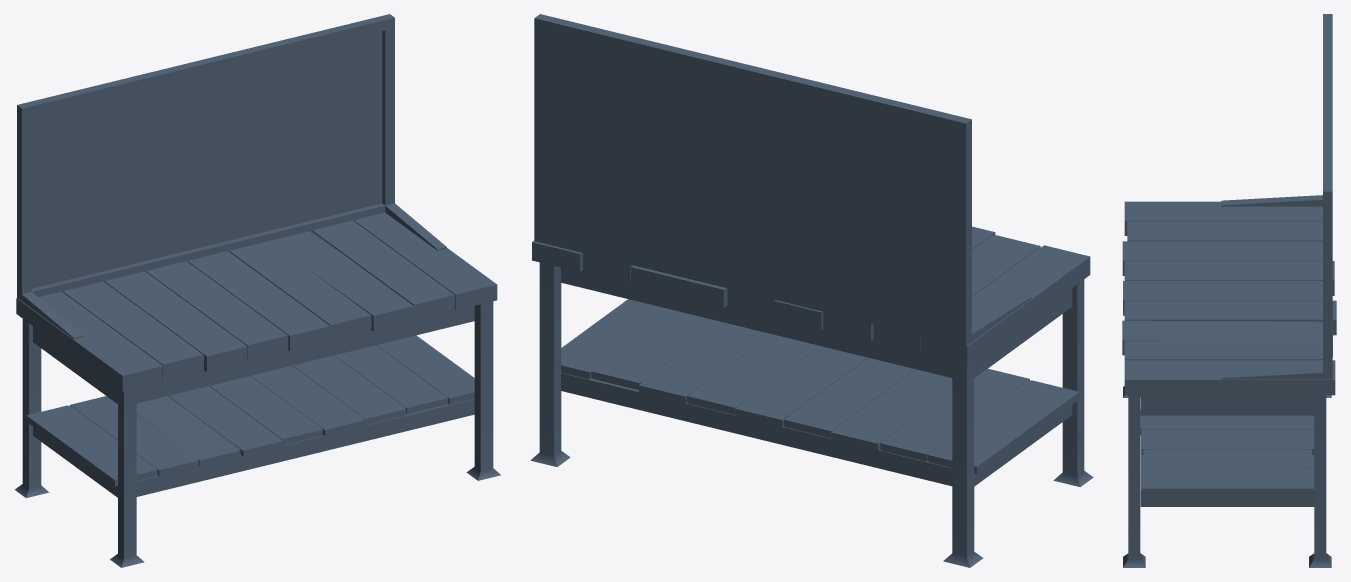
The model's file is Work Station Low.fbx.
The picture shows the model from 3 angles, left to right: view 1: azimuth 30°, elevation 25°; view 2: azimuth 150°, elevation 25°; view 3: azimuth 270°, elevation 25°; orthographic projection. The views are drawn at different scales.
Parts seen in each view (by area): view 1: Work_Station_09_low, Work_Station_01_low, Work_Station_02_low, Work_Station_07_low, Work_Station_08_low, Work_Station_04_low, Work_Station_03_low, Work_Station_05_low; view 2: Work_Station_09_low, Work_Station_02_low, Work_Station_01_low, Work_Station_07_low, Work_Station_08_low, Work_Station_05_low, Work_Station_06_low, Work_Station_03_low; view 3: Work_Station_01_low, Work_Station_02_low, Work_Station_09_low, Work_Station_07_low, Work_Station_08_low, Work_Station_04_low, Work_Station_06_low.
Boxes of the visible parts, left/top/right/bottom form: Work_Station_09_low: left=17, top=14, right=446, bottom=339; Work_Station_01_low: left=16, top=212, right=497, bottom=391; Work_Station_02_low: left=26, top=335, right=474, bottom=486; Work_Station_07_low: left=33, top=306, right=474, bottom=403; Work_Station_08_low: left=33, top=398, right=474, bottom=497; Work_Station_04_low: left=466, top=301, right=500, bottom=480; Work_Station_03_low: left=110, top=388, right=144, bottom=567; Work_Station_05_low: left=14, top=319, right=49, bottom=497; Work_Station_09_low: left=534, top=14, right=1032, bottom=346; Work_Station_02_low: left=561, top=299, right=1079, bottom=473; Work_Station_01_low: left=532, top=226, right=1090, bottom=364; Work_Station_07_low: left=561, top=267, right=1072, bottom=377; Work_Station_08_low: left=561, top=372, right=1072, bottom=486; Work_Station_05_low: left=943, top=360, right=983, bottom=567; Work_Station_06_low: left=530, top=262, right=570, bottom=466; Work_Station_03_low: left=1053, top=279, right=1093, bottom=487; Work_Station_01_low: left=1122, top=201, right=1336, bottom=395; Work_Station_02_low: left=1140, top=410, right=1314, bottom=494; Work_Station_09_low: left=1221, top=14, right=1332, bottom=379; Work_Station_07_low: left=1140, top=395, right=1314, bottom=415; Work_Station_08_low: left=1140, top=435, right=1314, bottom=506; Work_Station_04_low: left=1123, top=395, right=1145, bottom=567; Work_Station_06_low: left=1309, top=395, right=1331, bottom=567.
Bounding box in the file's own units: 207 × 199 × 103.
